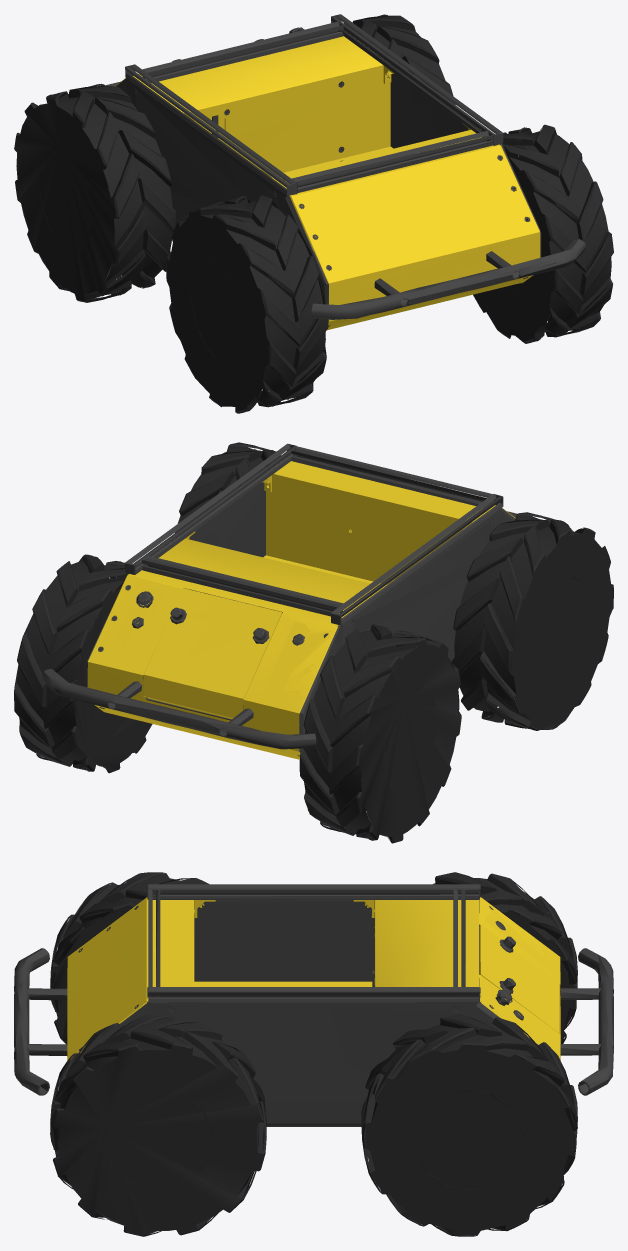
Rendered from Husky.fbx.
3 views of the same model, one above another, from view 1: azimuth 30°, elevation 25°; view 2: azimuth 150°, elevation 25°; view 3: azimuth 270°, elevation 25° (orthographic). The views are drawn at different scales.
Parts seen in each view (by area): view 1: body, wheels.003, wheels, wheels.002, wheels.001; view 2: body, wheels.003, wheels, wheels.001, wheels.002; view 3: body, wheels.001, wheels.002, wheels.003, wheels.
Boxes of the visible parts, bbox=[...] form: body: bbox=[59, 14, 586, 330]; wheels.003: bbox=[166, 195, 328, 413]; wheels: bbox=[14, 83, 176, 302]; wheels.002: bbox=[473, 124, 613, 343]; wheels.001: bbox=[344, 14, 455, 104]; body: bbox=[41, 443, 573, 759]; wheels.003: bbox=[452, 512, 613, 730]; wheels: bbox=[299, 624, 461, 843]; wheels.001: bbox=[14, 554, 152, 773]; wheels.002: bbox=[175, 442, 280, 532]; body: bbox=[14, 884, 613, 1126]; wheels.001: bbox=[361, 1014, 577, 1236]; wheels.002: bbox=[50, 1014, 266, 1236]; wheels.003: bbox=[50, 872, 209, 1044]; wheels: bbox=[433, 872, 577, 1043].
Bounding box in the file's own units: 67.11 × 39.03 × 98.72.
